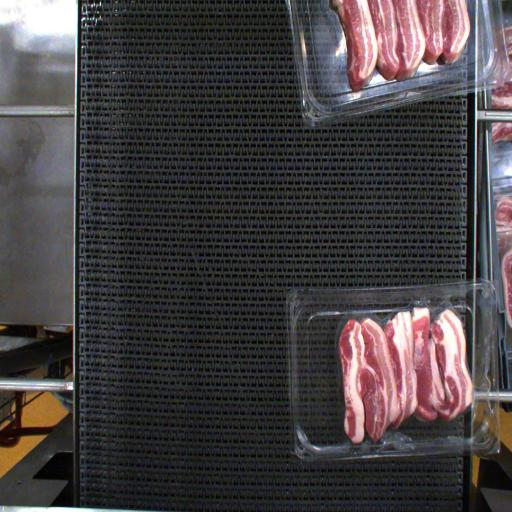unsealed: (332, 291, 468, 337)
